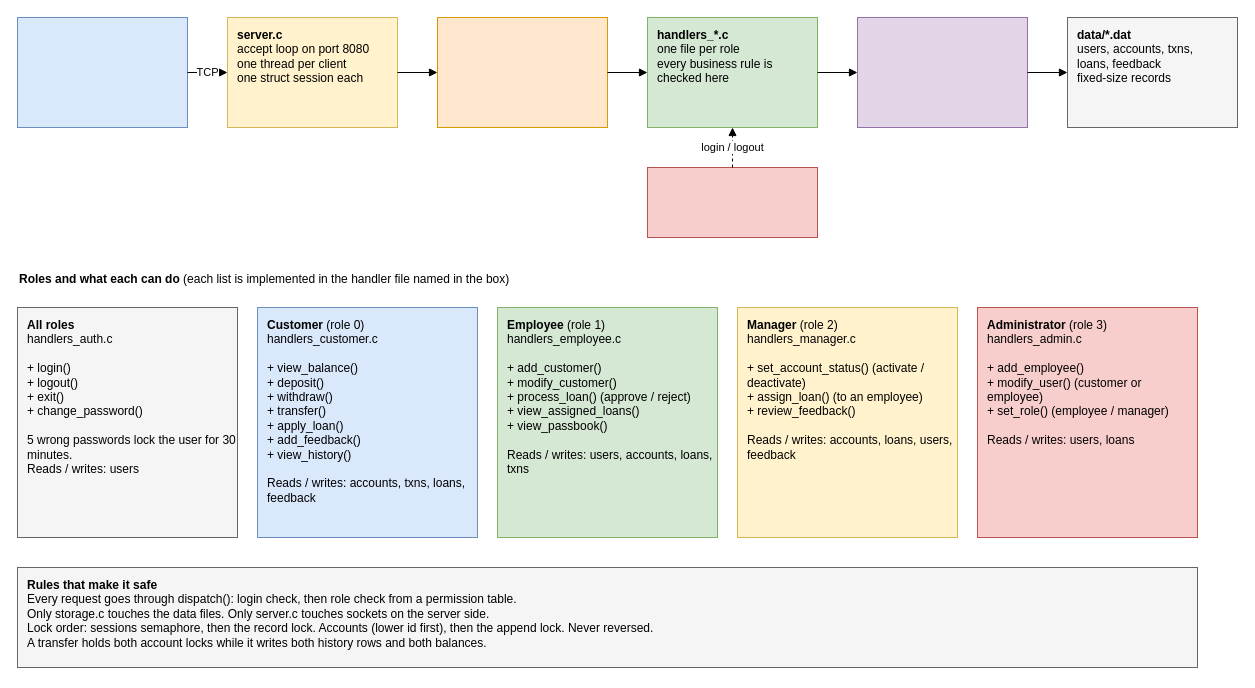
The diagram is 1255 pixels wide and 688 high, and some of its shapes have lost their labels. The shapes that lost their labels are listed below. From the top down, each one's centre as x and y in pixels, then its label:
(102,72): bankclient menu for the user's role checks formats only client/*.c
(522,72): dispatcher.c opcode to handler login check, role check re-reads the stored role
(942,72): storage.c read / write one record OFD record locks append lock
(732,202): sessions.c semaphore + logged_in flag (one session per user)
